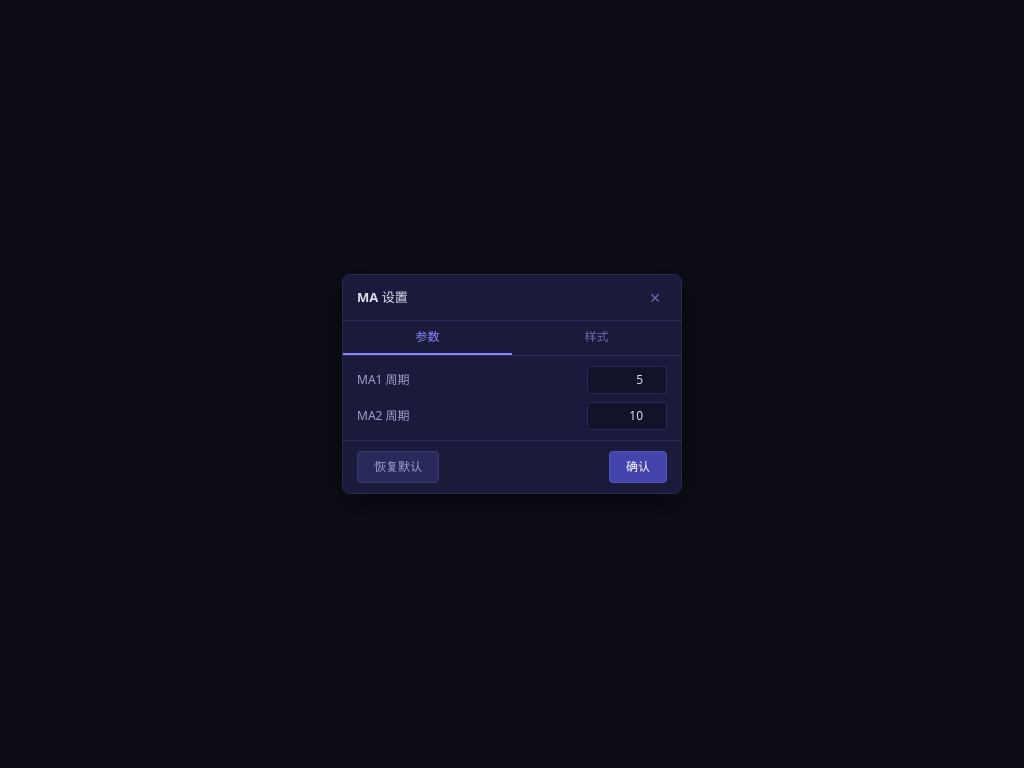
it: ScriptSetting — T18 指标参数调节 › renders styles tab with color fields
Switch to styles tab
Click the button "样式": (596, 338) left=512, top=321, right=681, bottom=355
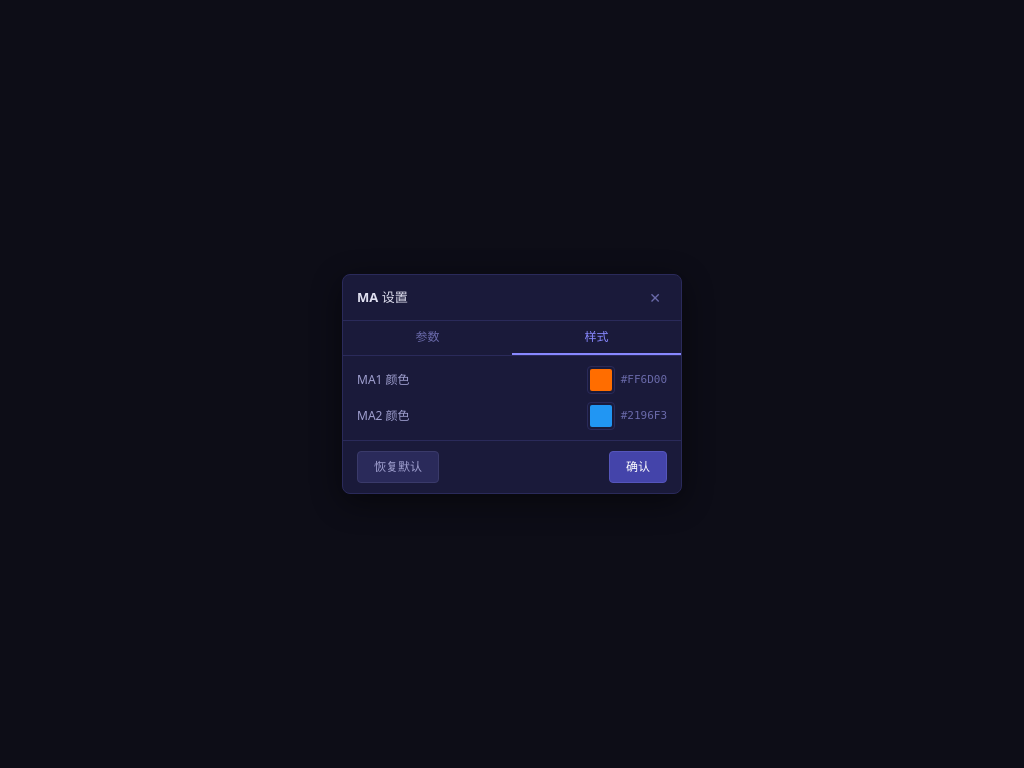
Expected: the text "MA1 颜色" is shown, left=357, top=371, right=410, bottom=389
Expected: the text "MA2 颜色" is shown, left=357, top=407, right=410, bottom=425
